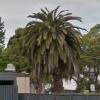Tree: (10, 5, 84, 73)
